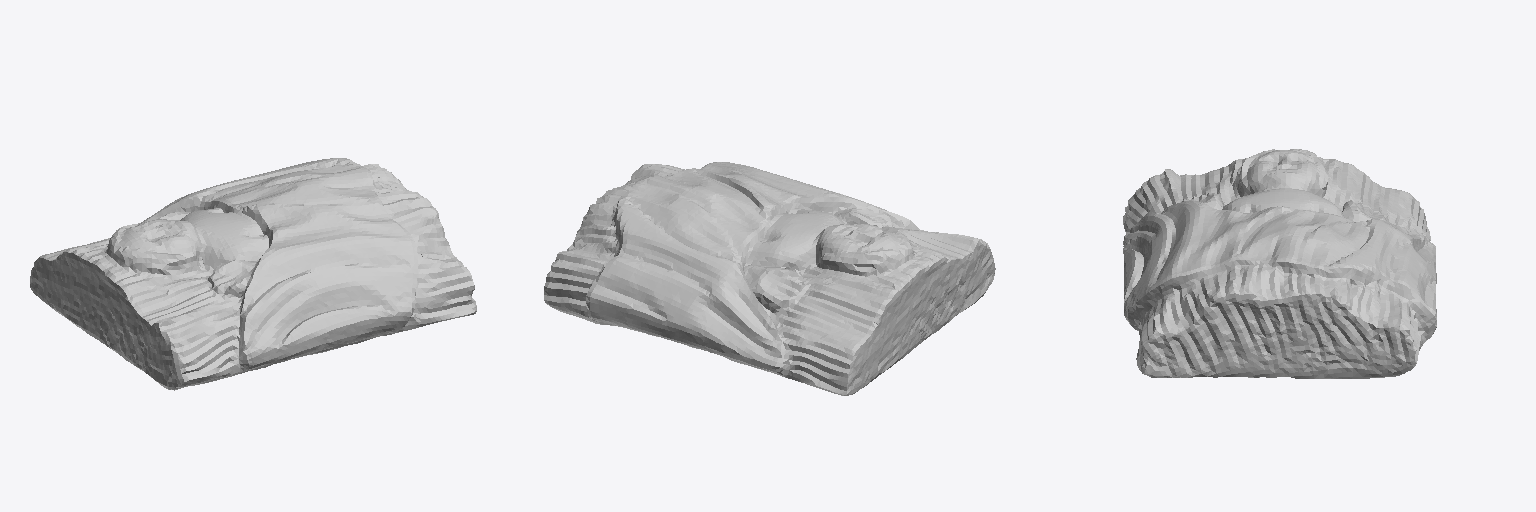
The model's file is Hojda13.obj.
3 renders of one model, left to right at view 1: azimuth 30°, elevation 25°; view 2: azimuth 150°, elevation 25°; view 3: azimuth 270°, elevation 25°, orthographic.
Parts seen in each view (by area): view 1: Hojda13_lowpoly; view 2: Hojda13_lowpoly; view 3: Hojda13_lowpoly.
Part boxes in pixels (x1,y1,x2,y2): Hojda13_lowpoly: (30, 158, 476, 390); Hojda13_lowpoly: (544, 162, 995, 395); Hojda13_lowpoly: (1123, 149, 1436, 378).
Size of the model in its own units: 0.0799 by 0.0271 by 0.0695.